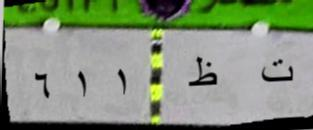1: (109, 64, 135, 102), (73, 65, 93, 101)
6: (33, 67, 55, 105)
Thaa: (186, 52, 220, 97)
taa: (256, 53, 297, 90)
